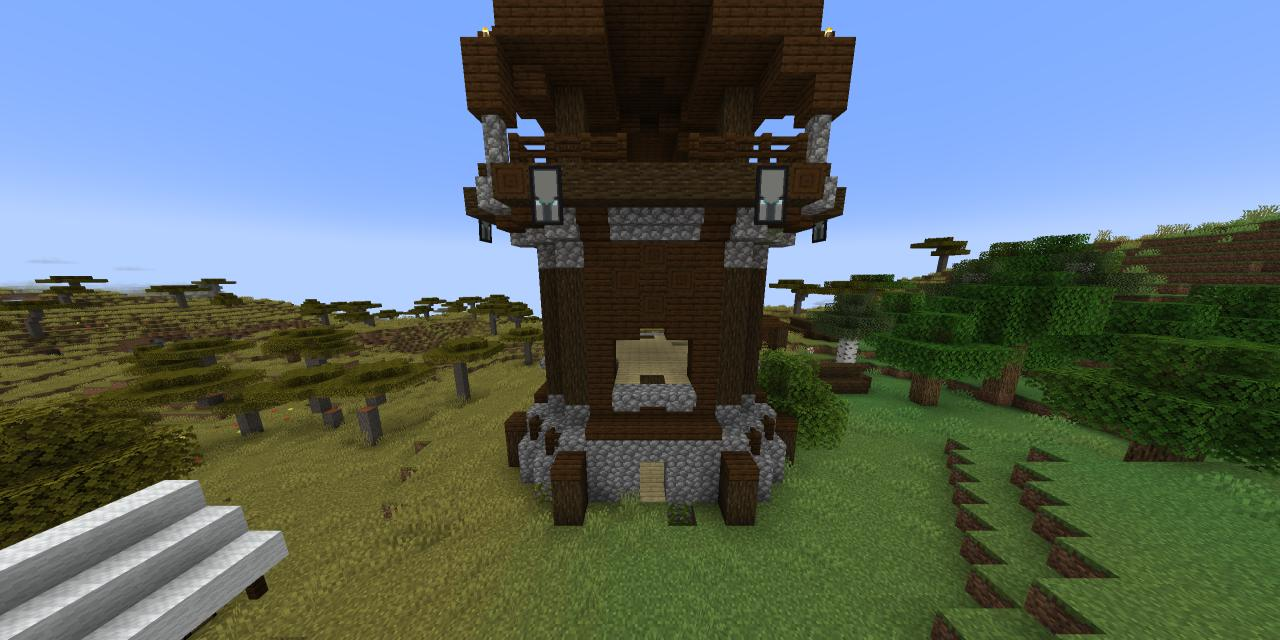pillager outpost: (440, 0, 873, 545)
